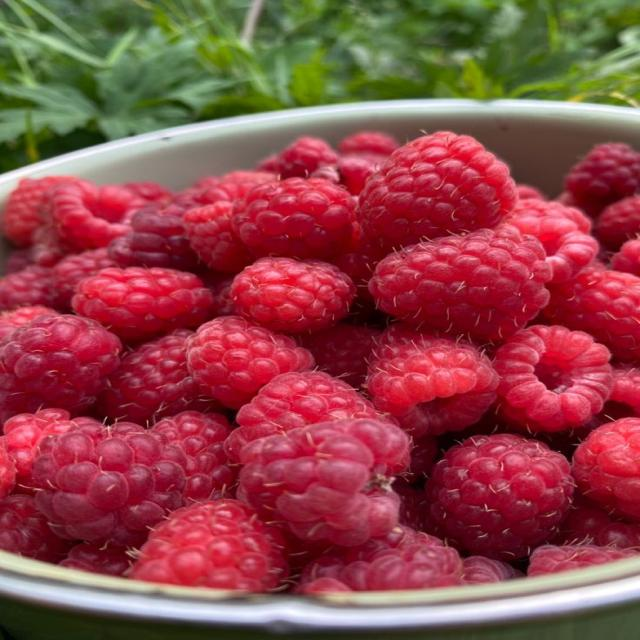raspberry: (238, 419, 409, 546), (369, 226, 551, 340), (34, 423, 186, 546), (359, 132, 516, 249), (427, 434, 573, 559), (130, 500, 287, 592), (367, 325, 498, 435), (226, 372, 378, 461), (0, 315, 121, 421), (494, 325, 613, 432), (187, 316, 314, 409), (98, 329, 219, 424), (232, 178, 357, 259), (73, 267, 211, 339), (299, 535, 464, 593), (230, 258, 355, 333), (543, 265, 639, 362), (0, 409, 100, 491), (151, 412, 235, 503), (507, 199, 599, 282), (573, 418, 639, 521), (49, 181, 145, 250), (109, 204, 198, 270), (300, 323, 381, 388), (565, 143, 639, 212), (2, 177, 76, 245), (184, 201, 253, 272), (0, 495, 68, 563), (52, 248, 117, 309), (174, 171, 277, 209), (332, 239, 388, 307), (527, 545, 637, 576), (550, 492, 613, 544), (506, 199, 592, 234), (276, 137, 338, 180), (0, 265, 59, 310), (597, 365, 639, 426), (194, 170, 277, 200), (59, 543, 133, 576), (594, 196, 639, 250), (336, 154, 386, 195), (32, 221, 75, 266), (0, 306, 58, 339), (393, 477, 428, 531), (200, 272, 237, 317), (462, 556, 521, 583), (406, 434, 439, 480), (338, 131, 399, 155), (595, 522, 639, 551), (124, 182, 173, 205), (611, 239, 639, 276), (3, 248, 35, 275), (0, 443, 15, 498), (310, 166, 340, 184), (516, 184, 547, 200), (256, 154, 278, 174)
